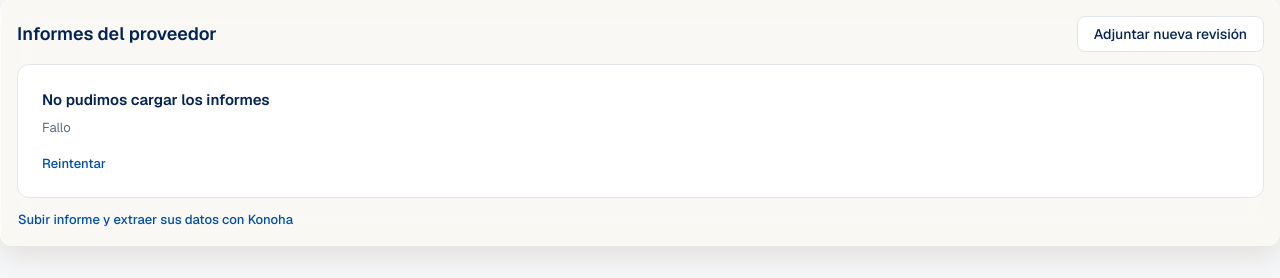
Test case: Proveedores · informes (RD-54) › un error de carga permite reintentar
The width and height of the screenshot is (1280, 278).
Click the button "Reintentar": (74, 164) 42,155 -> 106,173
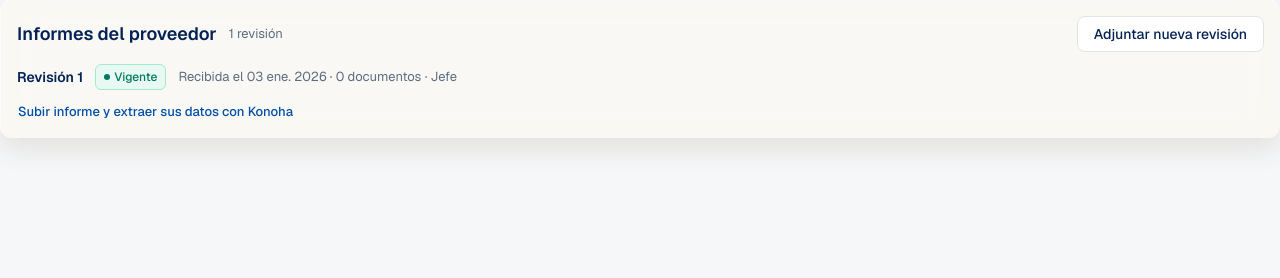
Expected: the text "Revisión 1" is shown, 17,67 -> 83,87
